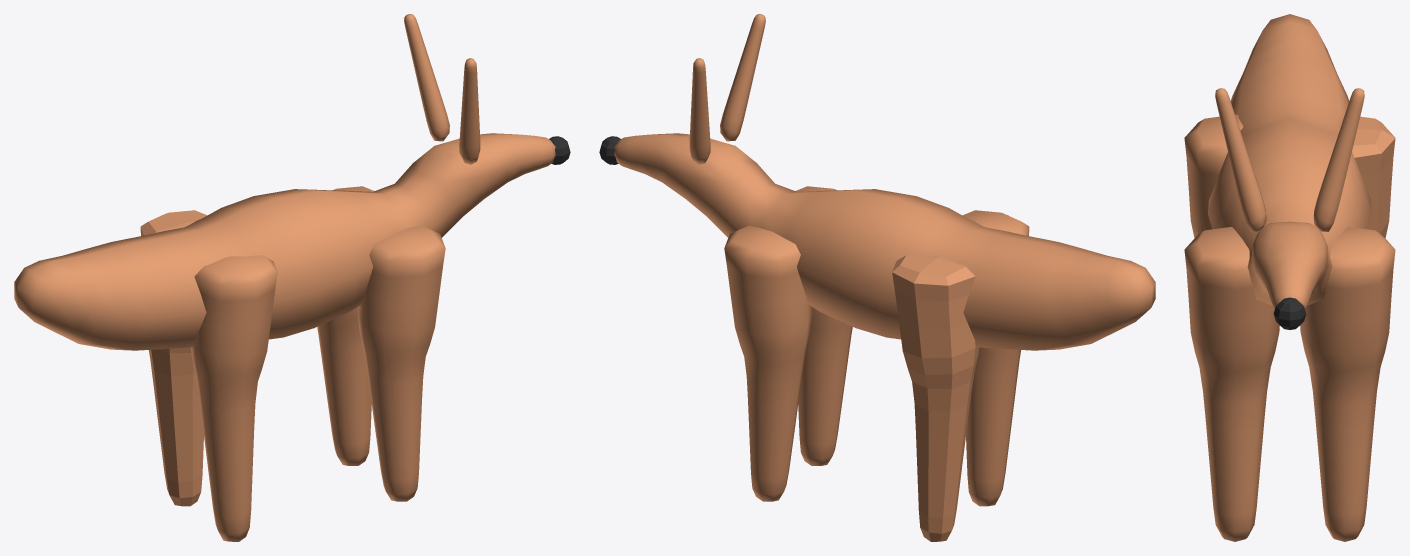
File: fox.glb
3 views of the same model, side by side, from view 1: azimuth 30°, elevation 25°; view 2: azimuth 150°, elevation 25°; view 3: azimuth 270°, elevation 25° (orthographic). The views are drawn at different scales.
Visible parts, largest first — view 1: Fox, Leg2, Leg0, Leg3, Leg1; view 2: Fox, Leg3, Leg1, Leg2, Leg0; view 3: Fox, Leg1, Leg0, Leg2, Leg3, Nose.
Boxes of the visible parts, bbox=[...] form: Fox: bbox=[14, 14, 555, 350]; Leg2: bbox=[191, 255, 277, 541]; Leg0: bbox=[357, 225, 445, 501]; Leg3: bbox=[140, 210, 207, 506]; Leg1: bbox=[317, 186, 374, 465]; Fox: bbox=[614, 14, 1155, 350]; Leg3: bbox=[892, 255, 978, 541]; Leg1: bbox=[724, 225, 812, 501]; Leg2: bbox=[962, 210, 1029, 506]; Leg0: bbox=[795, 186, 852, 465]; Fox: bbox=[1208, 14, 1371, 308]; Leg1: bbox=[1300, 226, 1395, 541]; Leg0: bbox=[1184, 227, 1279, 541]; Leg2: bbox=[1184, 114, 1243, 238]; Leg3: bbox=[1336, 114, 1395, 238]; Nose: bbox=[1273, 297, 1306, 329].
Bounding box in the file's own units: 1.43 × 1.07 × 0.4182.
